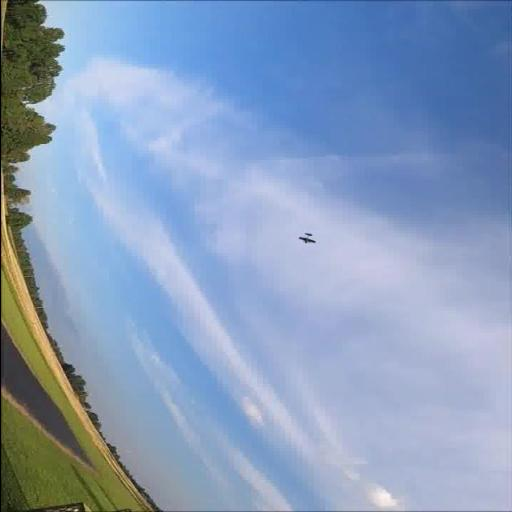uav: (295, 227, 323, 251)
